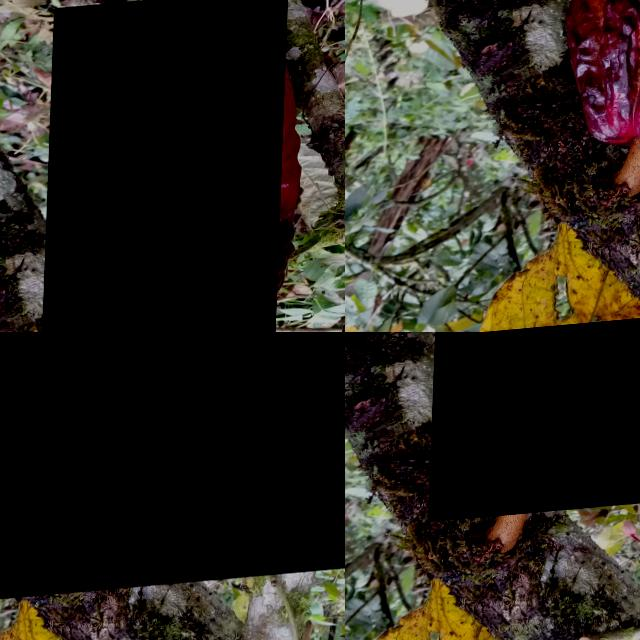Fitoftora: (432, 332, 640, 527)
Monilia: (0, 332, 345, 620), (41, 0, 288, 332)
